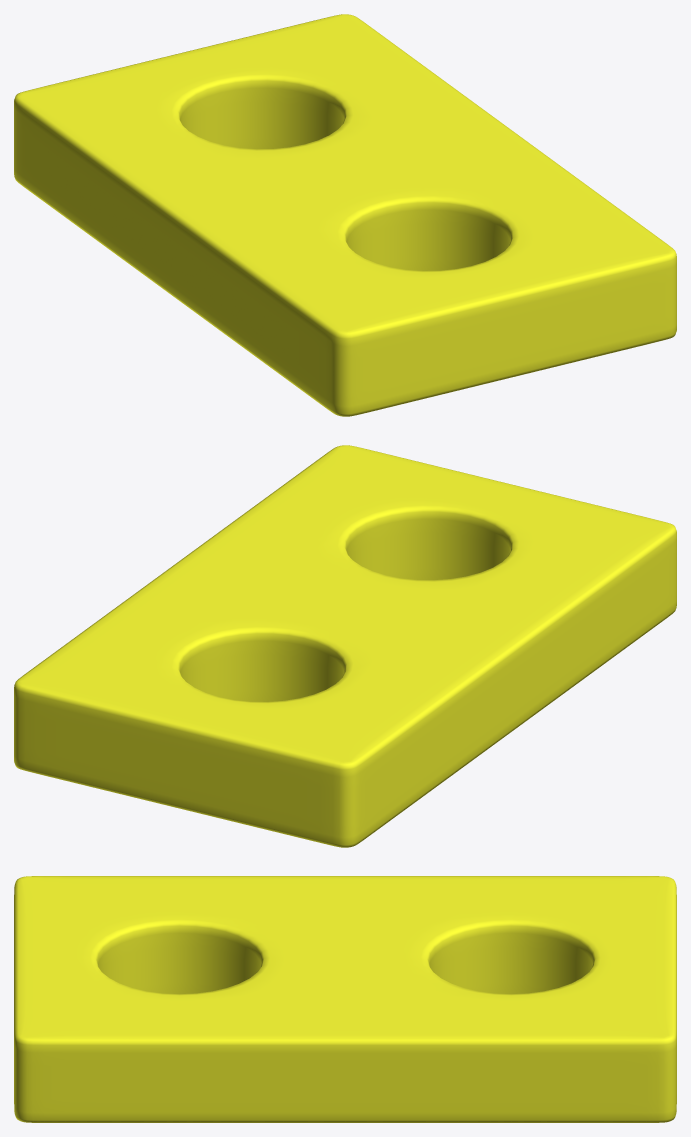
File: toy_rectangle.fbx
3 views of the same model, one above another, from view 1: azimuth 30°, elevation 25°; view 2: azimuth 150°, elevation 25°; view 3: azimuth 270°, elevation 25° (orthographic).
Visible parts, largest first — view 1: Rectangle.002; view 2: Rectangle.002; view 3: Rectangle.002.
Boxes of the visible parts, x1,y1,x2,y2 form: Rectangle.002: (14, 14, 676, 416); Rectangle.002: (14, 445, 676, 847); Rectangle.002: (14, 876, 676, 1122).
Bounding box in the file's own units: 2.79 × 0.6563 × 4.69.
